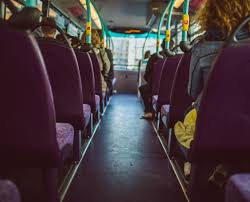seat: (6, 20, 78, 173)
